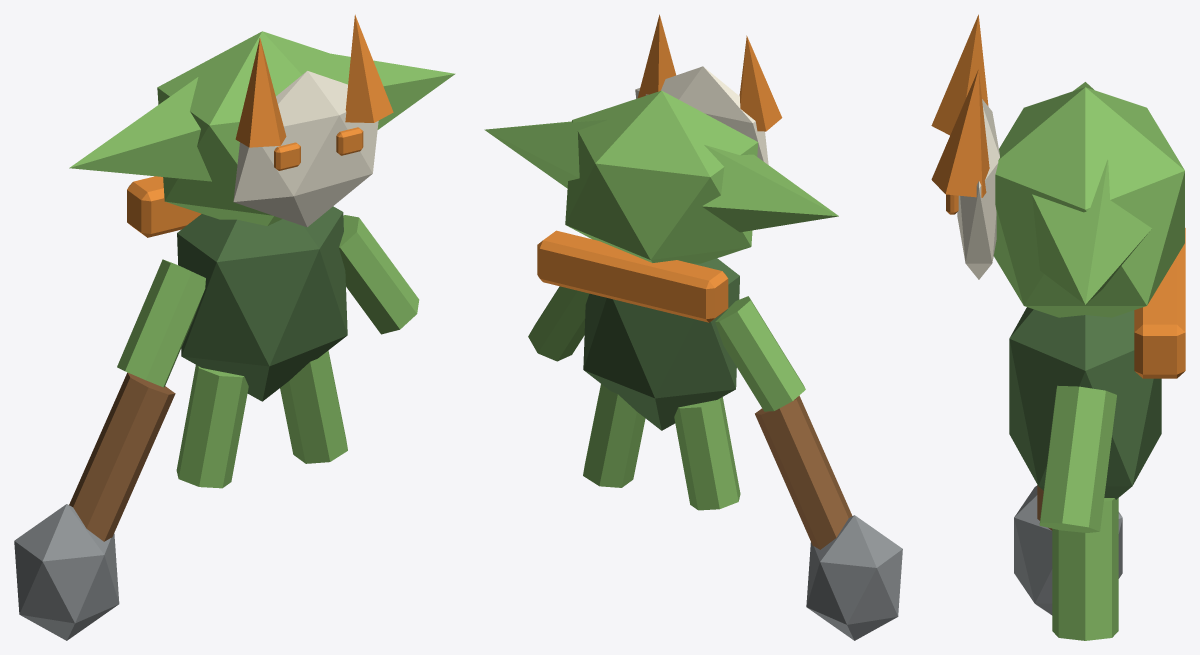
File: goblin_mask_v3.glb
3 views of the same model, side by side, from view 1: azimuth 30°, elevation 25°; view 2: azimuth 150°, elevation 25°; view 3: azimuth 270°, elevation 25° (orthographic). The views are drawn at different scales.
Visible parts, largest first — view 1: Goblin_Body, Goblin_Head, Goblin_BoneMask, Goblin_ClubHead, Goblin_Club, Goblin_Ear_L, Goblin_Leg_-1, Goblin_Arm_-1, Goblin_Arm_1, Goblin_Leg_1, Goblin_MaskHorn_L, Goblin_MaskHorn_R (+4 smaller); view 2: Goblin_Head, Goblin_Body, Goblin_Scarf, Goblin_ClubHead, Goblin_Club, Goblin_Ear_L, Goblin_Leg_-1, Goblin_Arm_-1, Goblin_Leg_1, Goblin_Ear_R, Goblin_BoneMask, Goblin_Arm_1 (+2 smaller); view 3: Goblin_Head, Goblin_Body, Goblin_Arm_1, Goblin_Ear_R, Goblin_Leg_1, Goblin_Scarf, Goblin_MaskHorn_R, Goblin_ClubHead, Goblin_BoneMask, Goblin_MaskHorn_L.
Part boxes in pixels (left/top/right/bottom): Goblin_Body: left=177, top=206, right=347, bottom=401; Goblin_Head: left=157, top=31, right=350, bottom=226; Goblin_BoneMask: left=233, top=71, right=378, bottom=227; Goblin_ClubHead: left=14, top=504, right=119, bottom=640; Goblin_Club: left=69, top=372, right=175, bottom=541; Goblin_Ear_L: left=69, top=77, right=211, bottom=181; Goblin_Leg_-1: left=176, top=365, right=248, bottom=488; Goblin_Arm_-1: left=117, top=259, right=205, bottom=387; Goblin_Arm_1: left=339, top=215, right=419, bottom=334; Goblin_Leg_1: left=280, top=350, right=347, bottom=463; Goblin_MaskHorn_L: left=235, top=38, right=286, bottom=147; Goblin_MaskHorn_R: left=345, top=14, right=393, bottom=122; Goblin_Head: left=565, top=90, right=758, bottom=263; Goblin_Body: left=583, top=258, right=739, bottom=430; Goblin_Scarf: left=537, top=230, right=728, bottom=322; Goblin_ClubHead: left=806, top=515, right=902, bottom=640; Goblin_Club: left=755, top=395, right=852, bottom=549; Goblin_Ear_L: left=702, top=145, right=838, bottom=232; Goblin_Leg_-1: left=674, top=397, right=740, bottom=510; Goblin_Arm_-1: left=715, top=296, right=805, bottom=411; Goblin_Leg_1: left=583, top=384, right=645, bottom=487; Goblin_Ear_R: left=484, top=119, right=606, bottom=188; Goblin_BoneMask: left=635, top=66, right=768, bottom=164; Goblin_Arm_1: left=528, top=286, right=588, bottom=361; Goblin_Head: left=993, top=87, right=1184, bottom=317; Goblin_Body: left=1009, top=307, right=1161, bottom=499; Goblin_Arm_1: left=1039, top=385, right=1116, bottom=532; Goblin_Ear_R: left=1032, top=159, right=1151, bottom=304; Goblin_Leg_1: left=1052, top=498, right=1118, bottom=640; Goblin_Scarf: left=1134, top=228, right=1185, bottom=378; Goblin_MaskHorn_R: left=931, top=69, right=989, bottom=197; Goblin_ClubHead: left=1014, top=485, right=1122, bottom=615; Goblin_BoneMask: left=957, top=99, right=999, bottom=279; Goblin_MaskHorn_L: left=931, top=14, right=988, bottom=135.
Size of the model in its own units: 2.84 by 3.64 by 1.19.
